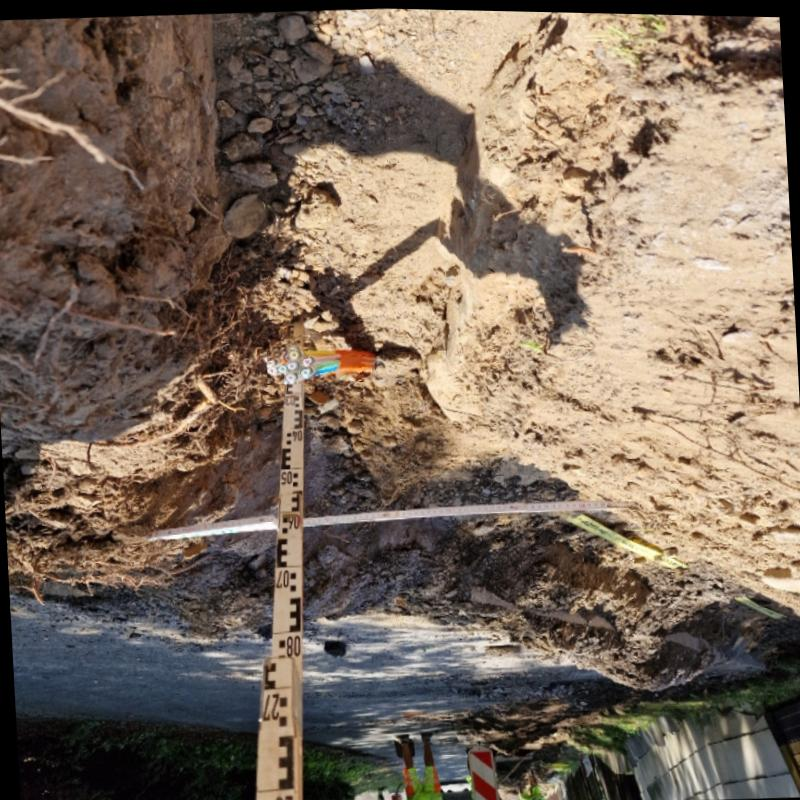Orang-Speednetrohrchen: (267, 346, 375, 383)
